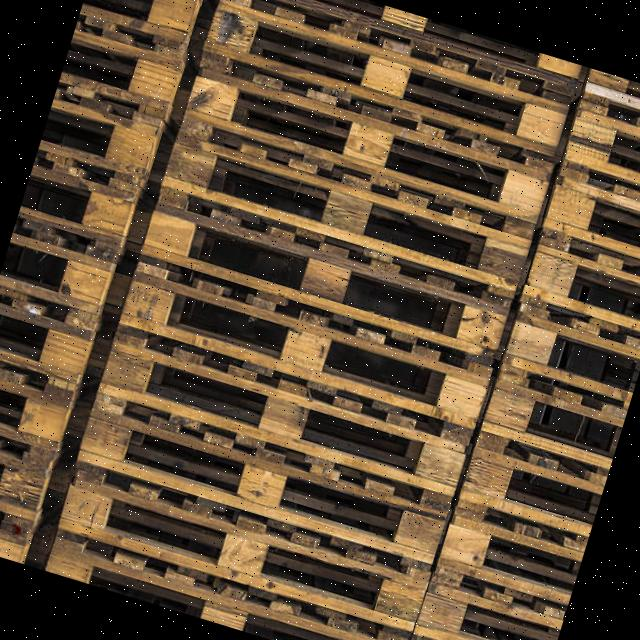Wooden-Pallets: (153, 105, 543, 296), (133, 182, 522, 366), (73, 380, 452, 564), (175, 51, 554, 234), (51, 455, 433, 633), (115, 260, 494, 436), (94, 325, 474, 498), (194, 0, 578, 169), (40, 522, 410, 640)
